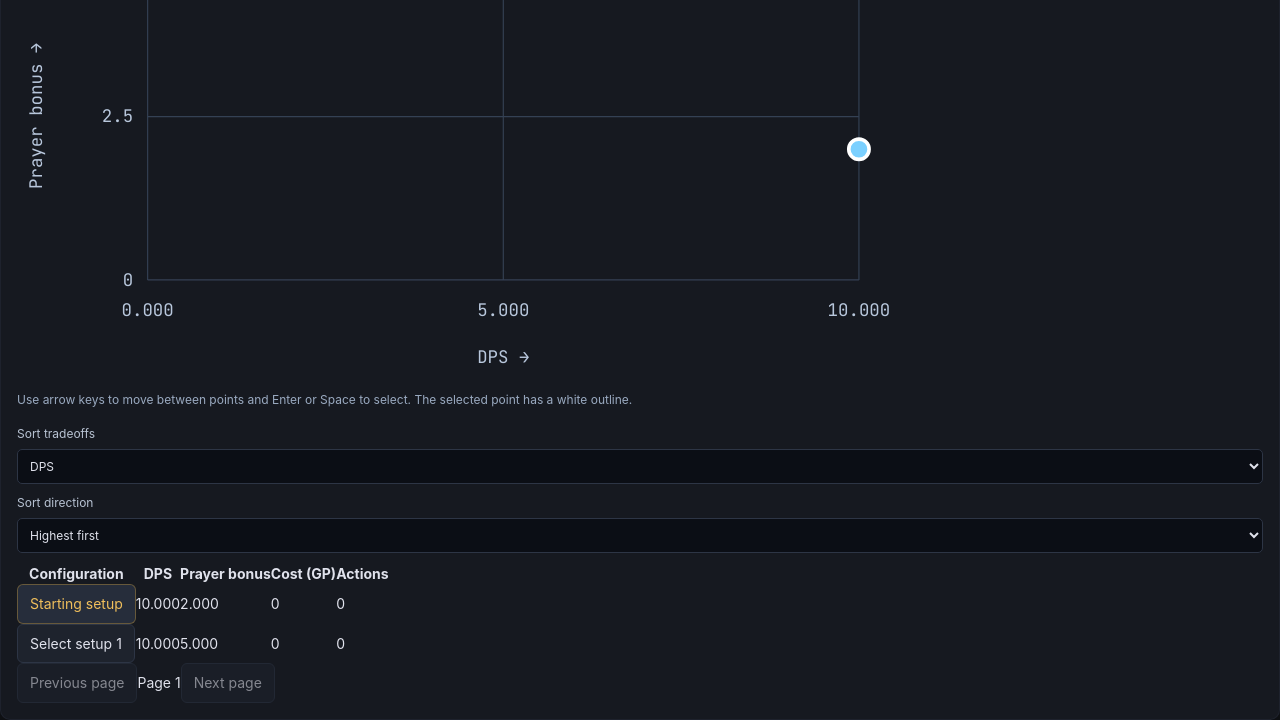
Scenario: highlights the starting setup and preserves chart points and bounds when selecting tradeoffs
This screenshot has width=1280, height=720.
(page scrolled)
expect the cell "2.000" is shown: met, box x1=180 y1=584 x2=271 y2=624
Click the button "Select setup 1". click: x=76, y=644
box: x1=17 y1=624 x2=135 y2=663
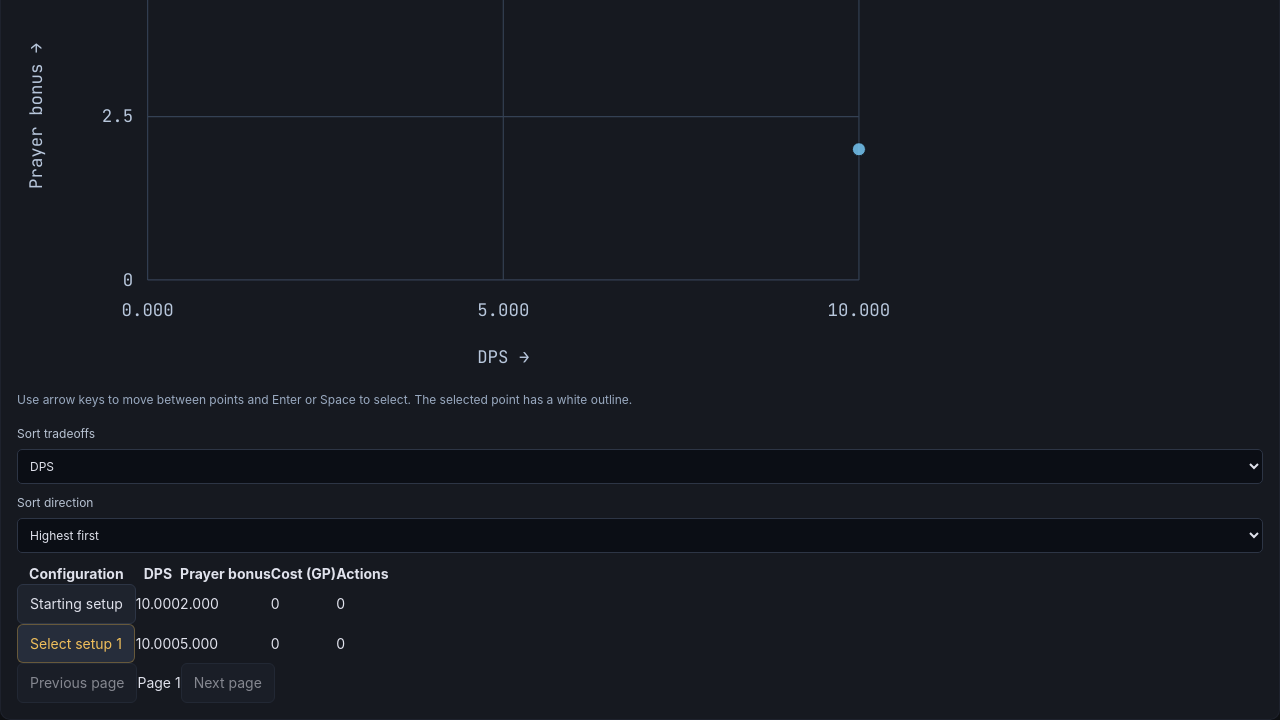
expect the button "Select tradeoff best-found," is shown: met, box x1=852 y1=142 x2=866 y2=155
expect the row "Starting setup 10.000 2.000 0 0" is not selected: met, box x1=17 y1=584 x2=389 y2=624
expect the button "Select setup 1" is pressed: met, box x1=17 y1=624 x2=135 y2=663
Click the button "Starting setup". click: x=76, y=604
box: x1=17 y1=584 x2=136 y2=624
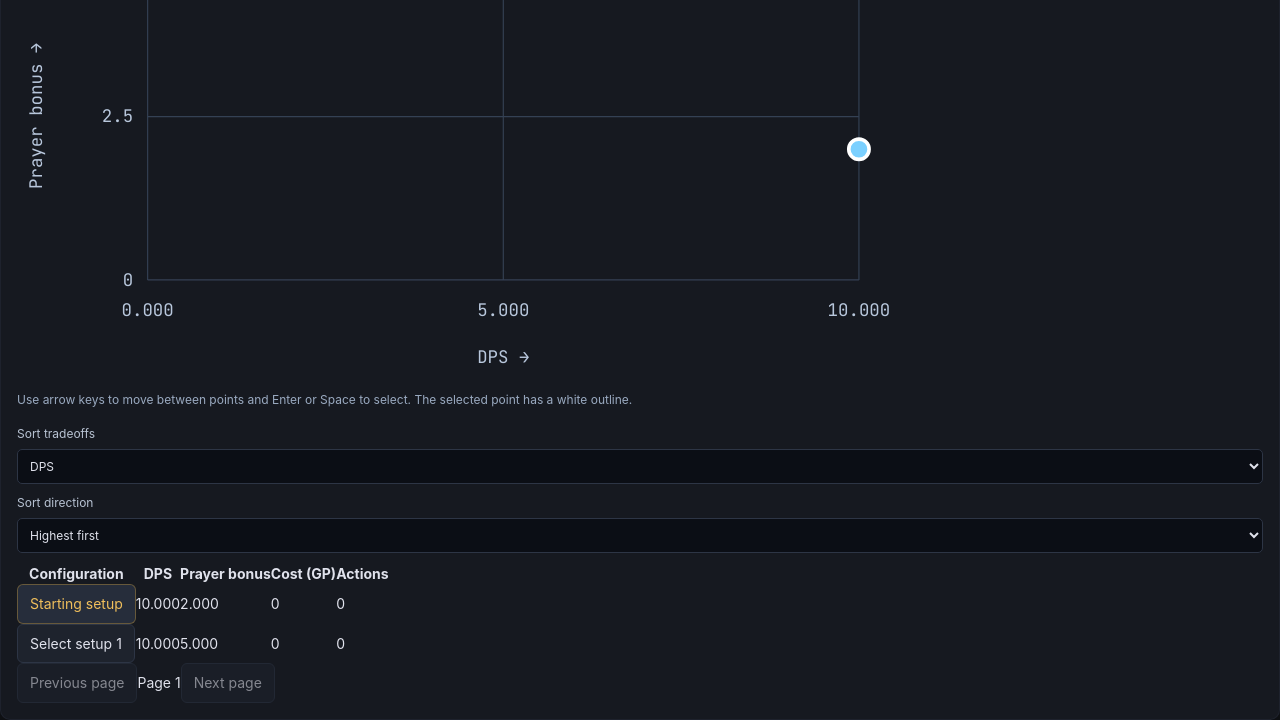
expect the button "Starting setup" is pressed: met, box x1=17 y1=584 x2=136 y2=624
